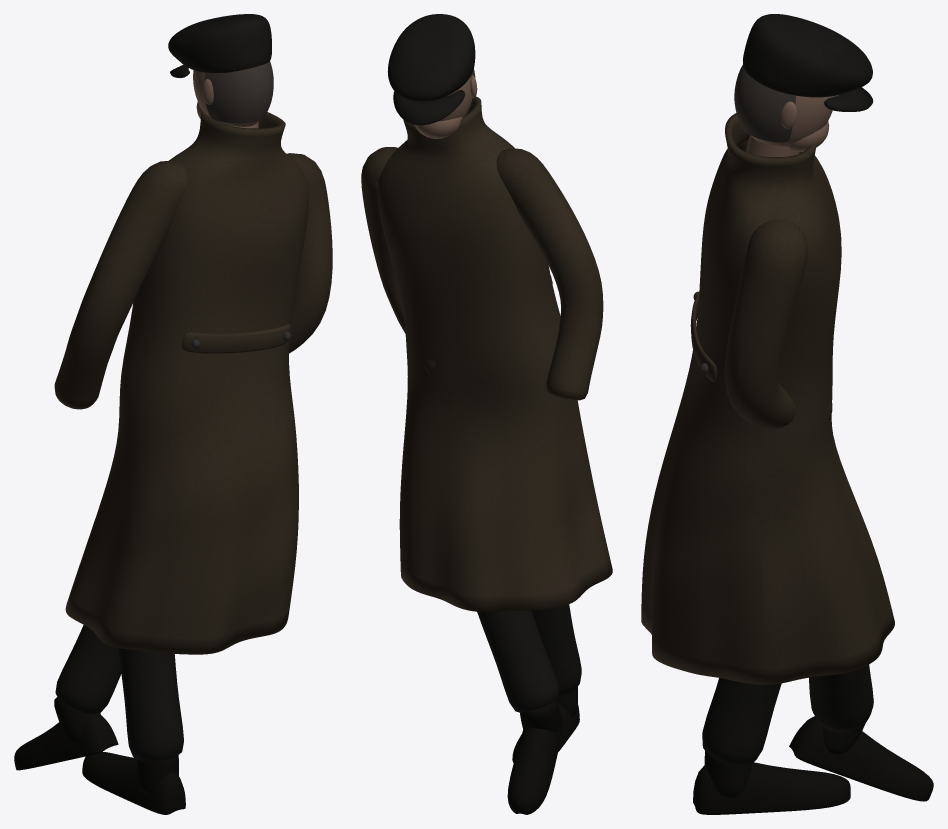
Rendered from worker-leaning-on-wall.glb.
3 renders of one model, left to right at view 1: azimuth 30°, elevation 25°; view 2: azimuth 150°, elevation 25°; view 3: azimuth 270°, elevation 25°, orthographic. The views are drawn at different scales.
Parts seen in each view (by area): view 1: worker-leaning-on-wall-body; view 2: worker-leaning-on-wall-body; view 3: worker-leaning-on-wall-body.
Boxes of the visible parts, <box> form: worker-leaning-on-wall-body: <box>14,14,332,814</box>; worker-leaning-on-wall-body: <box>361,14,612,814</box>; worker-leaning-on-wall-body: <box>641,14,933,814</box>.
Size of the model in its own units: 0.6097 by 1.76 by 0.5441.
7 materials, 4 textured.
